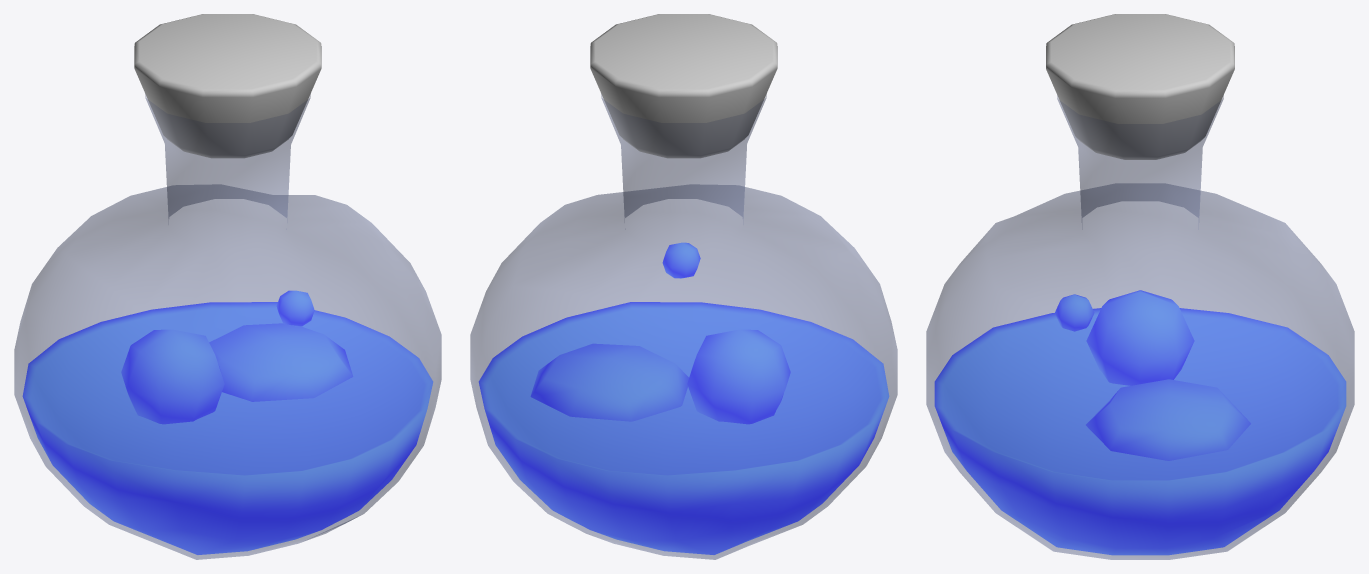
The picture shows the model from 3 angles, left to right: view 1: azimuth 30°, elevation 25°; view 2: azimuth 150°, elevation 25°; view 3: azimuth 270°, elevation 25°; orthographic projection.
Visible parts, largest first — view 1: Inner Glass_3, Liquid_5, Cork_4, Roundcube.001_8, Roundcube.003_6, Roundcube.000_7; view 2: Inner Glass_3, Liquid_5, Cork_4, Roundcube.001_8, Roundcube.003_6, Roundcube.000_7; view 3: Inner Glass_3, Liquid_5, Cork_4, Roundcube.001_8, Roundcube.003_6, Roundcube.000_7.
Part boxes in pixels (bbox=[...]): Inner Glass_3: bbox=[14, 94, 441, 559]; Liquid_5: bbox=[22, 302, 433, 554]; Cork_4: bbox=[134, 14, 321, 158]; Roundcube.001_8: bbox=[209, 323, 353, 401]; Roundcube.003_6: bbox=[121, 329, 224, 424]; Roundcube.000_7: bbox=[276, 290, 314, 326]; Inner Glass_3: bbox=[470, 94, 897, 559]; Liquid_5: bbox=[478, 302, 889, 554]; Cork_4: bbox=[590, 14, 777, 158]; Roundcube.001_8: bbox=[530, 343, 688, 421]; Roundcube.003_6: bbox=[687, 329, 790, 424]; Roundcube.000_7: bbox=[662, 242, 700, 278]; Inner Glass_3: bbox=[926, 95, 1354, 559]; Liquid_5: bbox=[934, 308, 1346, 555]; Cork_4: bbox=[1046, 14, 1234, 159]; Roundcube.001_8: bbox=[1086, 379, 1250, 460]; Roundcube.003_6: bbox=[1086, 290, 1194, 385]; Roundcube.000_7: bbox=[1055, 294, 1094, 331].
Size of what is drawn, in the model's own units: 5.54 by 6.7 by 5.54.
